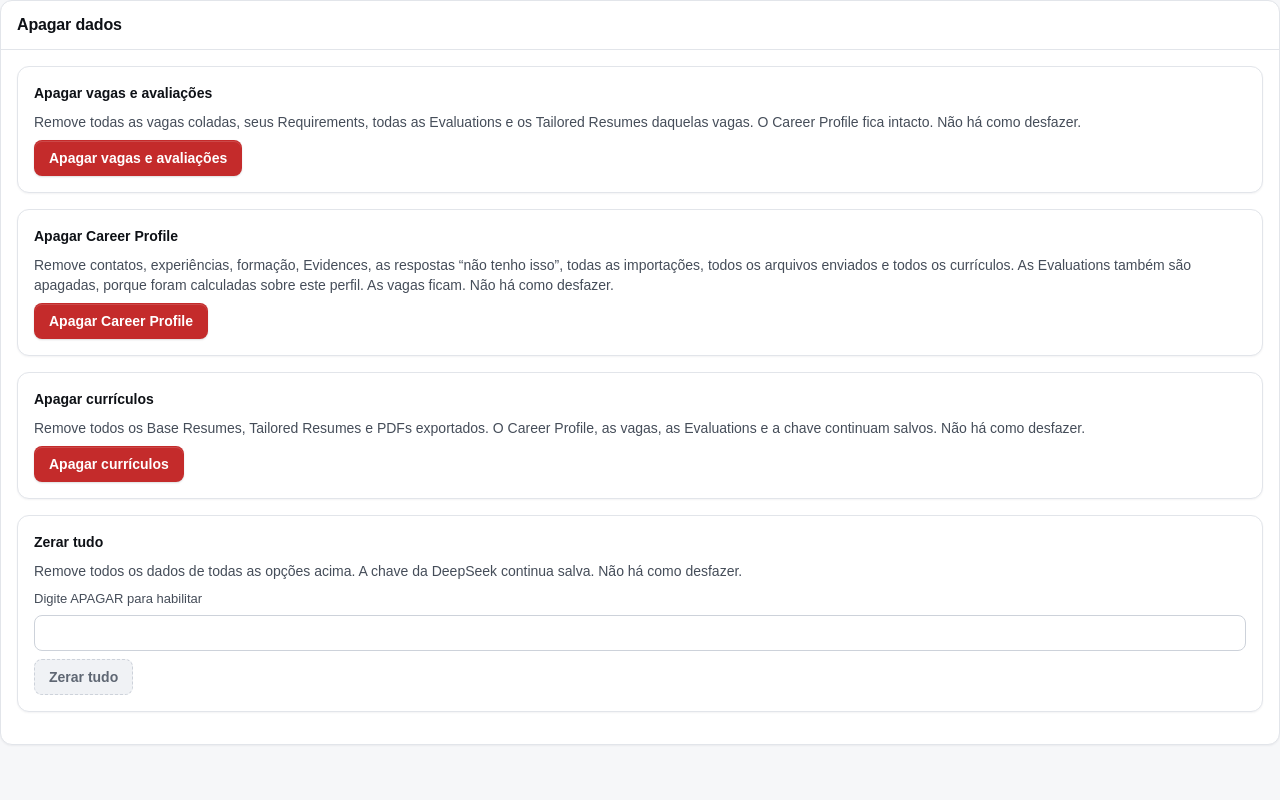
Test: DataErasurePanel › should confirm the career profile erasure without navigating
What coordinates should you click on to do the following:
click the button "Apagar Career Profile"
I would click on:
 (121, 321)
Its box is [34,303,208,339].
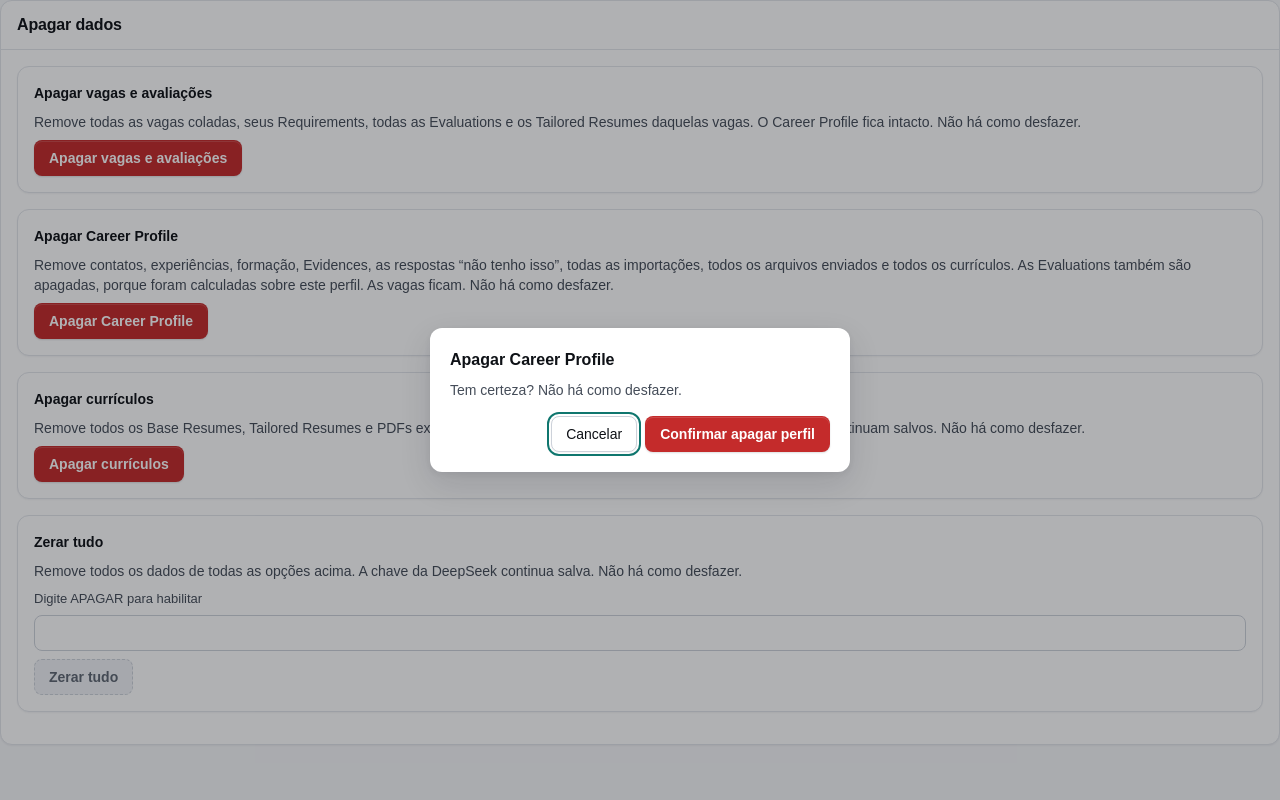
What coordinates should you click on to do the following:
click the button "Confirmar apagar perfil"
I would click on:
 (738, 434)
Its box is [645,416,830,452].
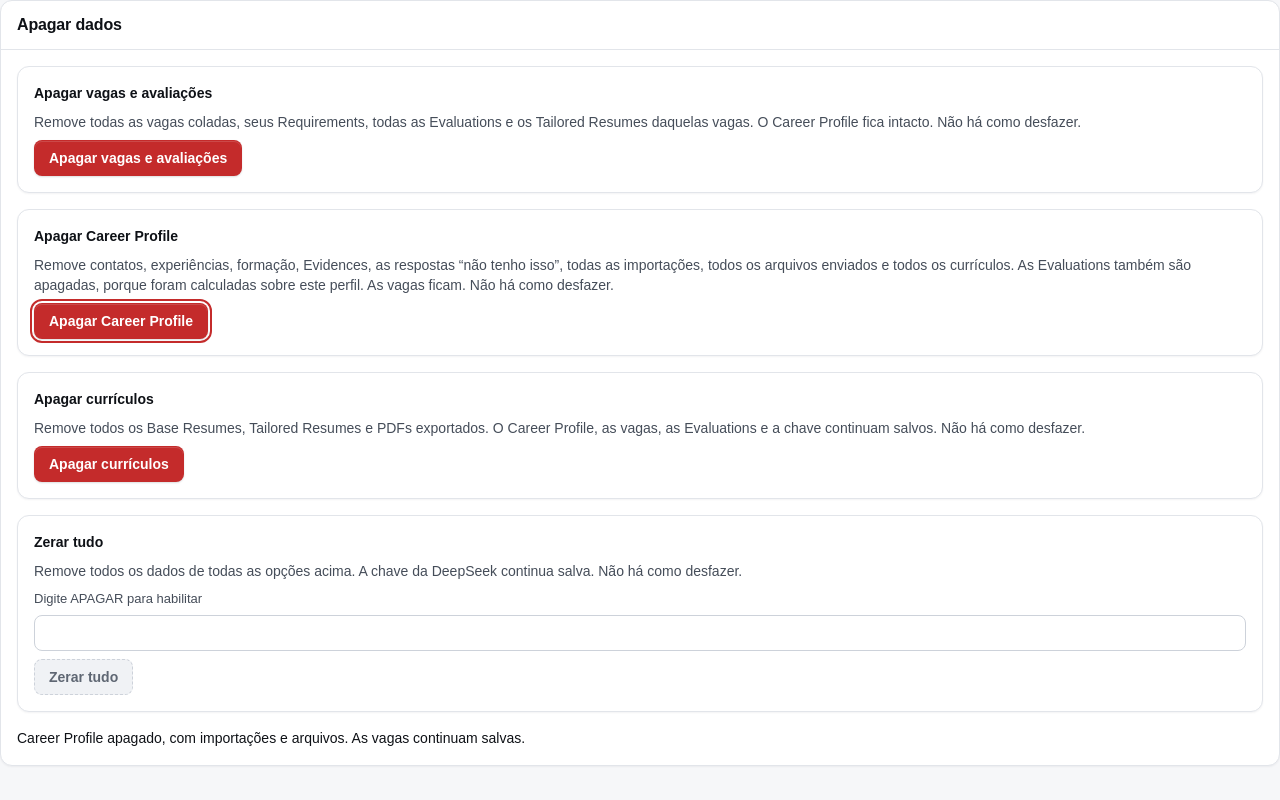
expect the message shows "Career Profile apagado": met, box [17,730,525,746]
